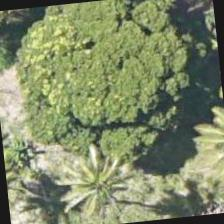Kelapa_Sawit: (54, 11, 153, 110), (50, 131, 150, 223), (1, 124, 61, 218)
